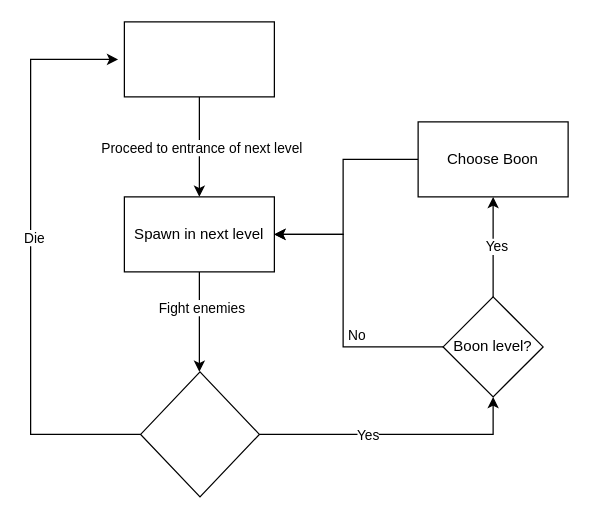
The diagram is 590 pixels wide and 519 high, and some of its shapes have lost their labels. The shapes that lost their labels are listed below. From the top down, each one's centre as x and y in pixels, then its label:
the point at 198,59: Spawn in Level 0
the point at 199,434: Beat stage?
